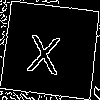X: (25, 25, 64, 75)
